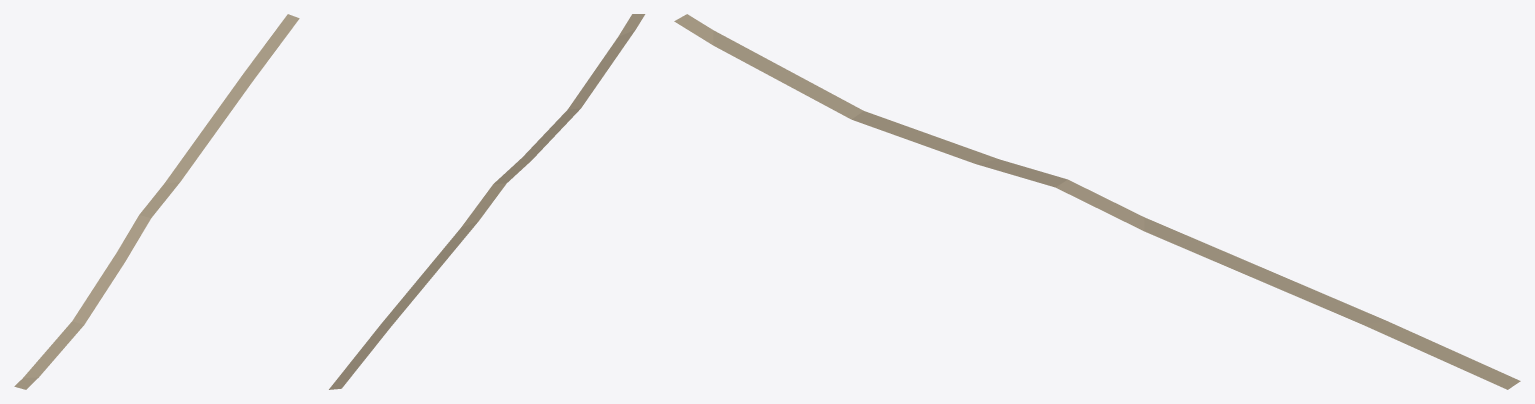
File: farm_-8_-12_track.glb
The picture shows the model from 3 angles, left to right: view 1: azimuth 30°, elevation 25°; view 2: azimuth 210°, elevation 25°; view 3: azimuth 270°, elevation 25°; orthographic projection. The views are drawn at different scales.
Visible parts, largest first — view 1: geometry_0; view 2: geometry_0; view 3: geometry_0.
Part boxes in pixels (bbox=[...]): geometry_0: bbox=[14, 14, 299, 389]; geometry_0: bbox=[329, 14, 645, 389]; geometry_0: bbox=[674, 14, 1520, 389].
Size of the model in its own units: 174 by 8.6 by 157.
